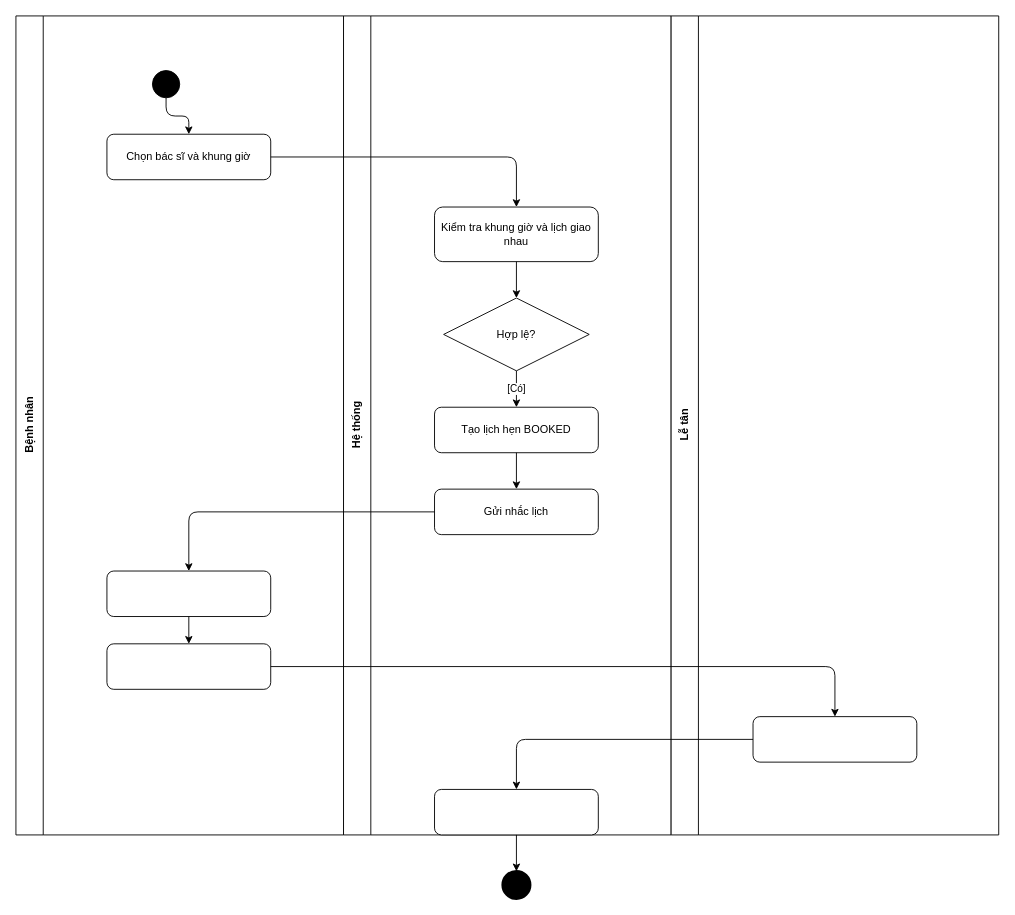
Some shapes in this 1015 by 915 pixel diagram are drawn without their labels. Here are the shapes that lost their labels. From the top down, the centre of each, then its label:
At pixel 188 593: "Nhận thông báo nhắc lịch".
At pixel 188 666: "Đến phòng khám".
At pixel 834 739: "Tìm lịch hẹn và xác nhận đến".
At pixel 516 812: "Check-in và cấp số hàng chờ".
